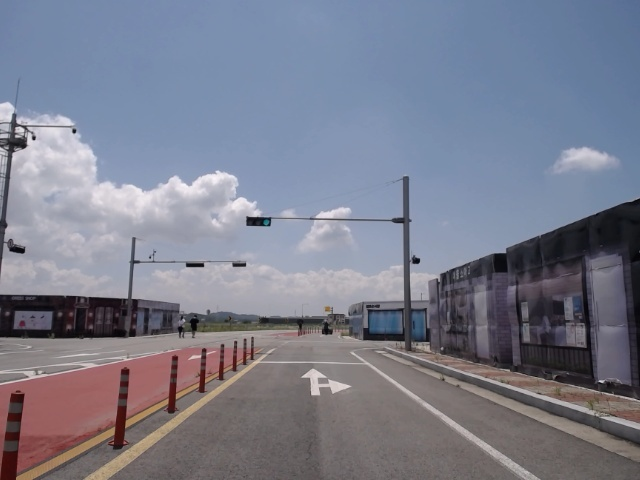green_3: (247, 217, 271, 226)
